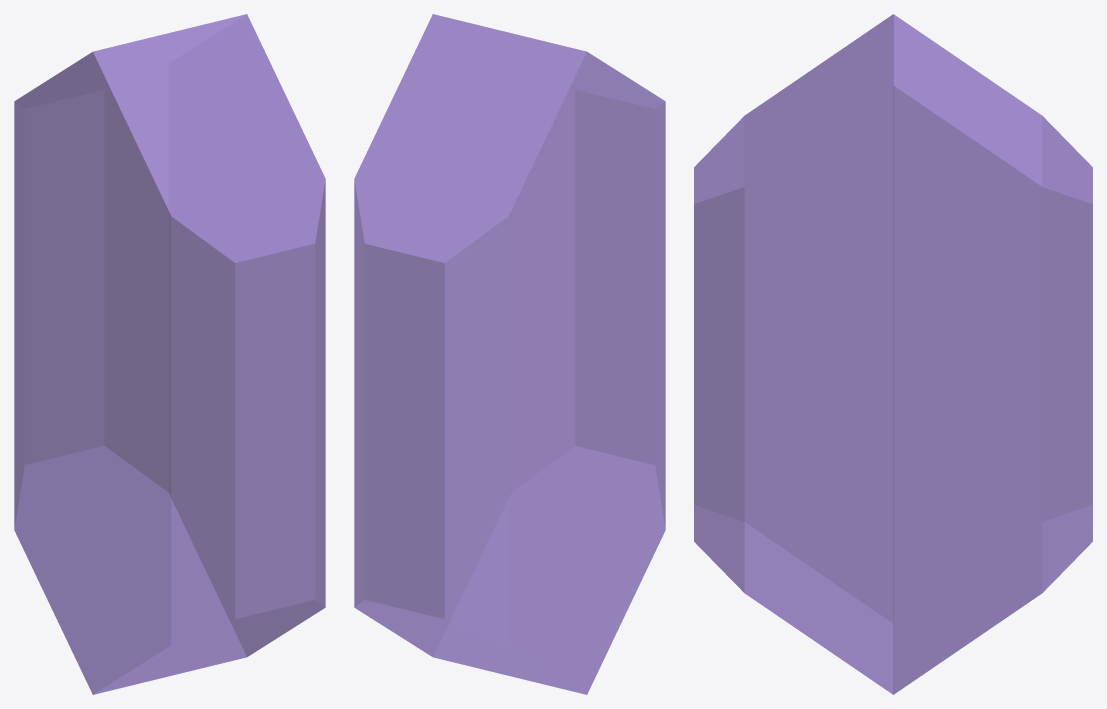
Rendered from Gem_New_13.fbx.
The picture shows the model from 3 angles, left to right: view 1: azimuth 30°, elevation 25°; view 2: azimuth 150°, elevation 25°; view 3: azimuth 270°, elevation 25°; orthographic projection. The views are drawn at different scales.
Visible parts, largest first — view 1: Model; view 2: Model; view 3: Model.
Boxes of the visible parts, x1,y1,x2,y2 form: Model: (14, 14, 325, 694); Model: (354, 14, 665, 694); Model: (694, 14, 1092, 694).
Size of the model in its own units: 63.02 by 251 by 149.
